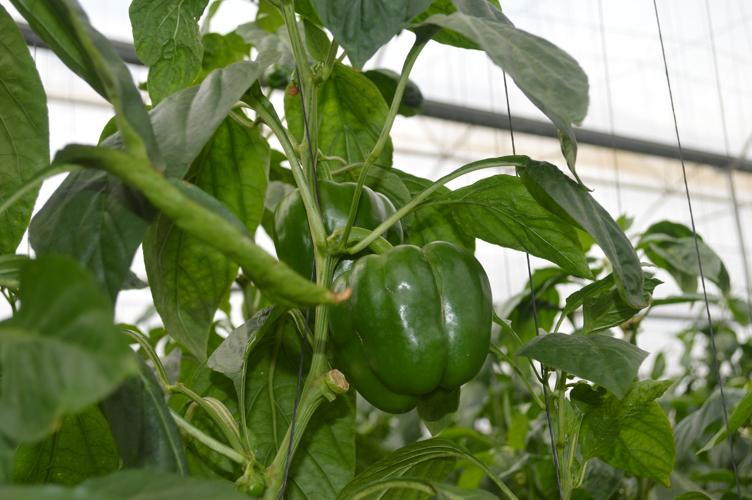BellPepper: (326, 244, 497, 410), (273, 182, 404, 279)
